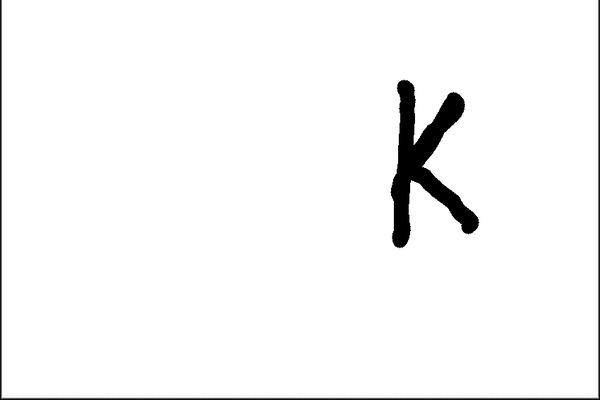K: (384, 72, 483, 251)
